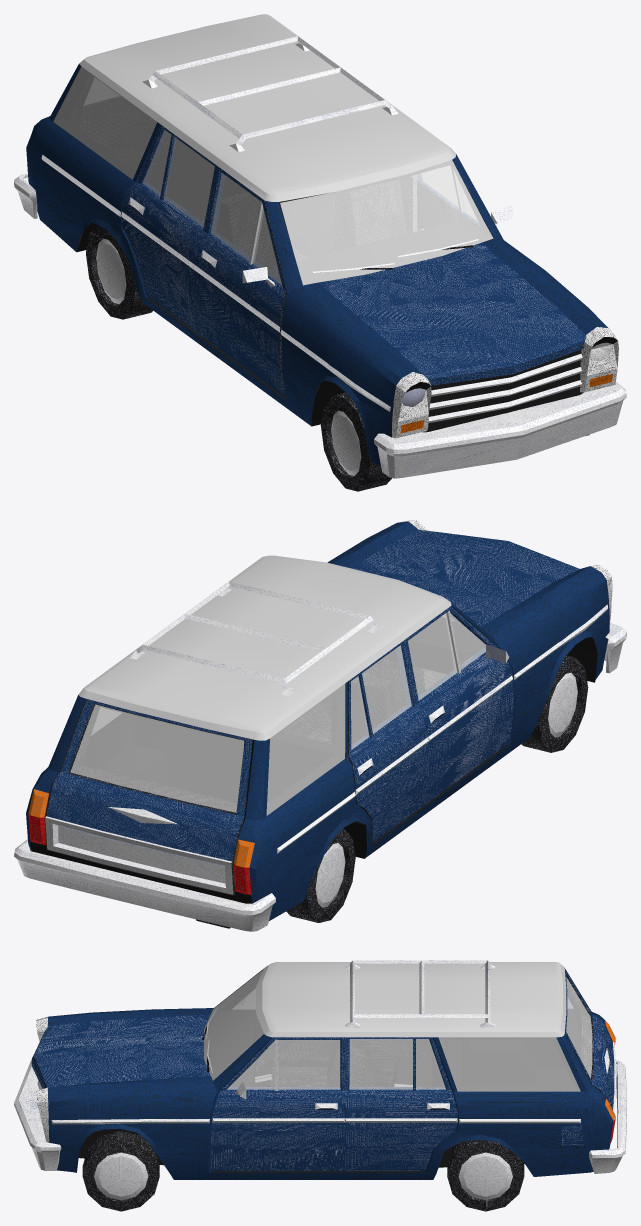
The picture shows the model from 3 angles, top to bottom: view 1: azimuth 30°, elevation 25°; view 2: azimuth 150°, elevation 25°; view 3: azimuth 270°, elevation 25°; orthographic projection. The views are drawn at different scales.
Parts seen in each view (by area): view 1: chassis (×12), bonnet_ok, windscre02, door_rf_ok (×2), bump_fro02, door_rr_ok, wheel (×4), Group_8, Group_9 (×2), boot_ok, Group_11, extra1 (×3) (+1 smaller); view 2: chassis (×8), boot_ok (×3), Group_12, bonnet_ok, door_rf_ok, door_rr_ok, bump_rea02, wheel (×4), Group_8, Group_11, Group_9, extra1 (×4) (+1 smaller); view 3: chassis (×11), door_rf_ok (×3), door_rr_ok (×3), bonnet_ok, wheel (×4), Group_5, Group_9, Group_11, windscre02, boot_ok (×2), bump_fro02, bump_rea02 (+2 smaller).
Part boxes in pixels (x1,y1,x2,y2): chassis (×12): [26, 14, 618, 465]; bonnet_ok: [318, 243, 585, 385]; windscre02: [280, 160, 493, 284]; door_rf_ok (×2): [194, 166, 480, 396]; bump_fro02: [374, 382, 626, 478]; door_rr_ok: [122, 125, 217, 332]; wheel (×4): [86, 224, 391, 491]; Group_8: [53, 66, 157, 179]; Group_9 (×2): [210, 166, 477, 285]; boot_ok: [69, 73, 187, 161]; Group_11: [142, 129, 214, 227]; extra1 (×3): [148, 36, 391, 145]; chassis (×8): [26, 521, 609, 920]; boot_ok (×3): [45, 699, 252, 894]; Group_12: [70, 704, 244, 812]; bonnet_ok: [351, 529, 579, 626]; door_rf_ok: [405, 606, 513, 804]; door_rr_ok: [348, 640, 428, 842]; bump_rea02: [14, 839, 275, 931]; wheel (×4): [286, 655, 588, 922]; Group_8: [266, 683, 345, 815]; Group_11: [351, 645, 411, 749]; Group_9: [408, 613, 485, 700]; extra1 (×4): [136, 581, 376, 689]; chassis (×11): [36, 962, 613, 1179]; door_rf_ok (×3): [211, 1010, 344, 1170]; door_rr_ok (×3): [345, 1037, 457, 1170]; bonnet_ok: [31, 1014, 210, 1088]; wheel (×4): [82, 1131, 524, 1211]; Group_5: [438, 1037, 580, 1091]; Group_9: [227, 1040, 340, 1089]; Group_11: [349, 1039, 445, 1089]; windscre02: [204, 969, 263, 1080]; boot_ok (×2): [565, 970, 614, 1109]; bump_fro02: [14, 1060, 61, 1170]; bump_rea02: [589, 1060, 626, 1173].
Size of the model in its own units: 2.07 by 5.27 by 1.72.
